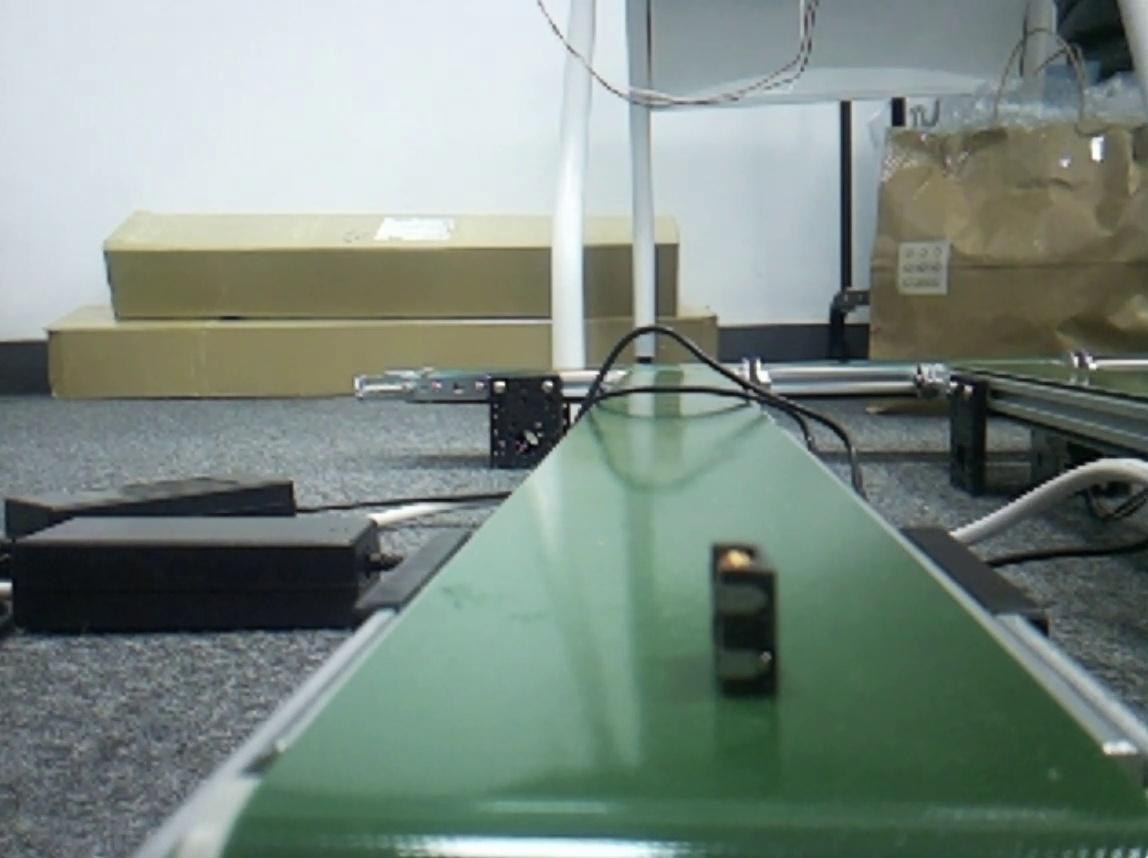inductor: (708, 543, 781, 700)
